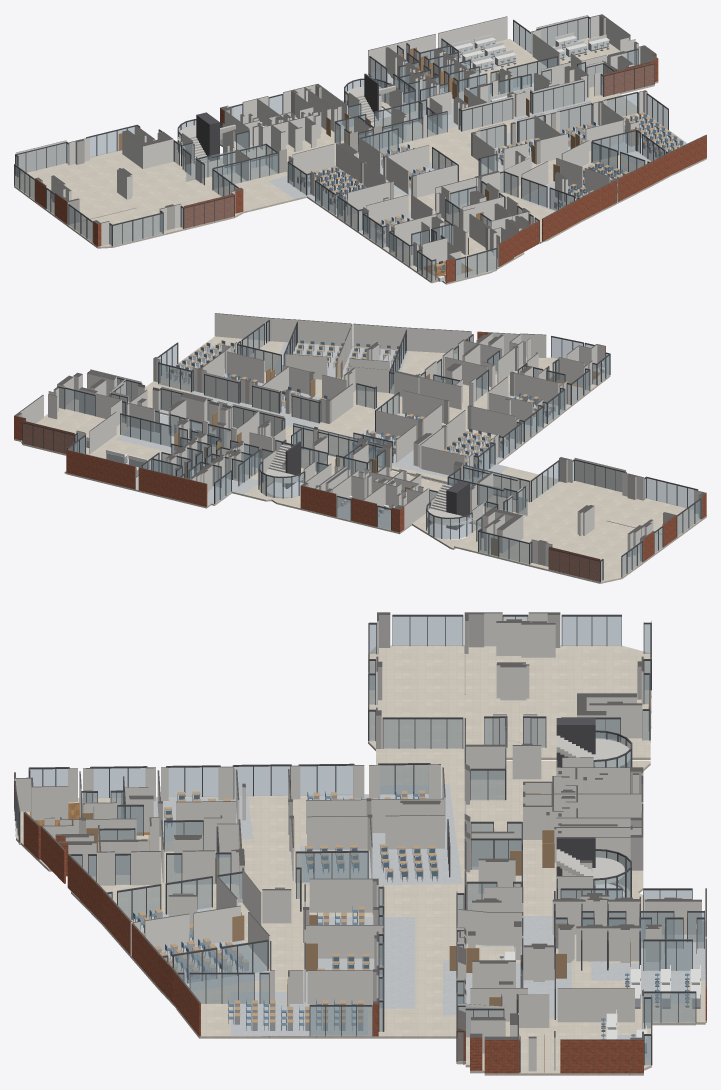
The model's file is floor-2.glb.
The picture shows the model from 3 angles, top to bottom: view 1: azimuth 30°, elevation 25°; view 2: azimuth 150°, elevation 25°; view 3: azimuth 270°, elevation 25°; orthographic projection. The views are drawn at different scales.
Parts seen in each view (by area): view 1: P2_Walls, P2_Glass, P2_Floor_Slab, P2_Glass_Mullions, P2_Floor_Zones, P2_Glass_Frames_Top, P2_Columns, P2_Furniture_3_3, P2_Doors, P2_Stair_A_West, P2_Furniture_3_2, P2_Furniture_1_2 (+2 smaller); view 2: P2_Walls, P2_Glass, P2_Floor_Slab, P2_Glass_Mullions, P2_Floor_Zones, P2_Glass_Frames_Top, P2_Columns, P2_Stair_A_West, P2_Doors, P2_Stair_A_East, P2_Furniture_3_2, P2_Furniture_1_2 (+4 smaller); view 3: P2_Walls, P2_Floor_Slab, P2_Glass, P2_Floor_Zones, P2_Glass_Mullions, P2_Glass_Frames_Top, P2_Columns, P2_Doors, P2_Furniture_2_2, P2_Furniture_3_2, P2_Stair_A_West, P2_Furniture_3_3 (+3 smaller).
Part boxes in pixels (x1,y1,x2,y2): P2_Walls: [15, 15, 706, 282]; P2_Glass: [14, 18, 667, 281]; P2_Floor_Slab: [14, 37, 706, 284]; P2_Glass_Mullions: [14, 18, 668, 281]; P2_Floor_Zones: [268, 40, 686, 278]; P2_Glass_Frames_Top: [14, 16, 668, 261]; P2_Columns: [35, 14, 647, 250]; P2_Furniture_3_3: [451, 32, 609, 101]; P2_Doors: [118, 47, 638, 254]; P2_Stair_A_West: [177, 112, 235, 164]; P2_Furniture_3_2: [557, 112, 683, 169]; P2_Furniture_1_2: [297, 166, 365, 209]; P2_Walls: [17, 313, 702, 581]; P2_Glass: [23, 322, 700, 581]; P2_Floor_Slab: [14, 336, 706, 583]; P2_Glass_Mullions: [22, 320, 701, 582]; P2_Floor_Zones: [116, 342, 600, 529]; P2_Glass_Frames_Top: [23, 320, 701, 561]; P2_Columns: [14, 346, 706, 565]; P2_Stair_A_West: [427, 480, 481, 530]; P2_Doors: [168, 359, 527, 556]; P2_Stair_A_East: [266, 441, 304, 488]; P2_Furniture_3_2: [166, 342, 260, 398]; P2_Furniture_1_2: [443, 428, 508, 472]; P2_Walls: [14, 612, 706, 1073]; P2_Floor_Slab: [14, 645, 706, 1075]; P2_Glass: [15, 616, 704, 1064]; P2_Floor_Zones: [29, 784, 705, 1058]; P2_Glass_Mullions: [14, 615, 704, 1072]; P2_Glass_Frames_Top: [14, 614, 704, 1041]; P2_Columns: [79, 612, 643, 1073]; P2_Doors: [82, 702, 696, 1006]; P2_Furniture_2_2: [305, 844, 438, 924]; P2_Furniture_3_2: [235, 953, 369, 1030]; P2_Stair_A_West: [556, 718, 630, 767]; P2_Furniture_3_3: [499, 947, 700, 1053].
Bounding box in the file's own units: 77.07 × 4.79 × 53.14.
20 materials, 5 textured.
